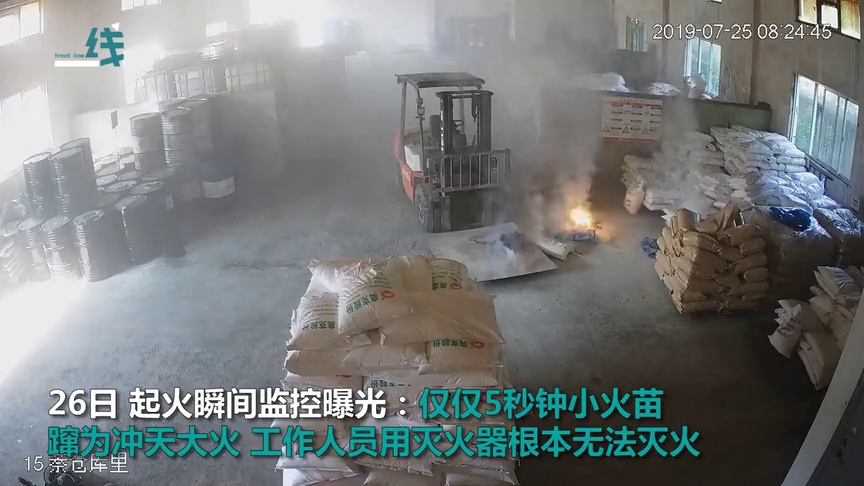fire: (567, 196, 592, 231)
smoke: (502, 95, 558, 216), (554, 83, 599, 198)
